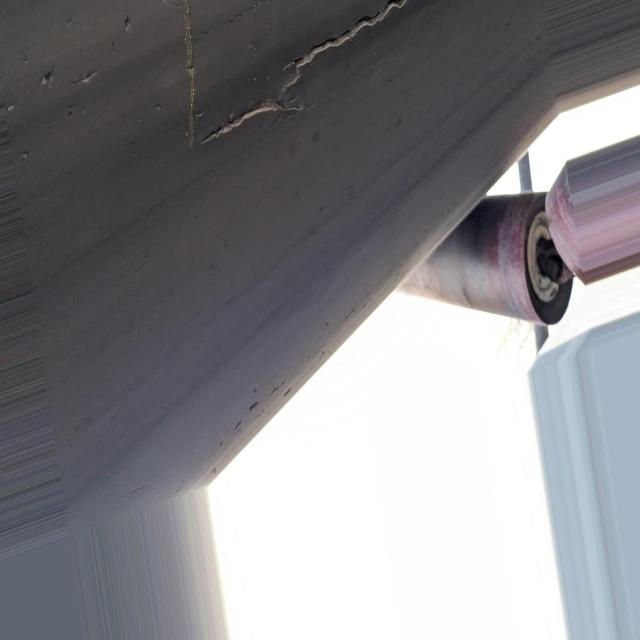Puncture: (71, 51, 101, 95), (36, 55, 63, 102), (117, 7, 135, 41)
Roller: (401, 192, 561, 315)
Tear: (178, 0, 424, 160)
